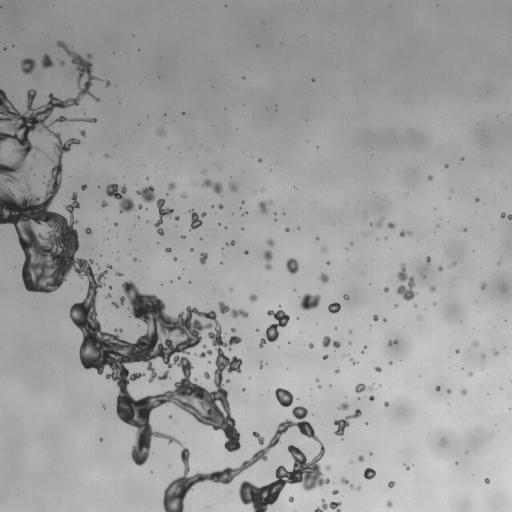droplet: (106, 184, 135, 212), (275, 388, 294, 407), (299, 293, 320, 310), (322, 335, 340, 349), (21, 58, 36, 74), (190, 209, 202, 229), (258, 200, 272, 214), (286, 257, 298, 273), (41, 54, 53, 68), (328, 302, 340, 313), (363, 468, 375, 479), (199, 252, 207, 264), (319, 273, 329, 282), (375, 217, 383, 227), (338, 402, 348, 410), (156, 128, 165, 136), (229, 182, 237, 191), (249, 294, 257, 301), (341, 477, 349, 484), (168, 182, 175, 189), (85, 227, 92, 234), (267, 239, 274, 246), (387, 222, 395, 228), (388, 340, 396, 346), (480, 282, 486, 289), (429, 285, 435, 292), (374, 366, 381, 372), (227, 240, 235, 245), (101, 201, 107, 207), (388, 481, 394, 487), (386, 501, 392, 507), (115, 271, 122, 276), (373, 314, 378, 321), (105, 80, 110, 86), (80, 130, 85, 136), (165, 247, 171, 252), (472, 341, 478, 346), (204, 372, 209, 378), (461, 389, 466, 395), (358, 455, 363, 461), (426, 256, 430, 263), (81, 185, 86, 190), (322, 247, 327, 252), (438, 266, 443, 271), (344, 294, 349, 299), (323, 354, 328, 359), (369, 395, 374, 400), (325, 465, 330, 470), (484, 478, 489, 483), (332, 490, 338, 494), (289, 496, 293, 502), (104, 153, 109, 157), (428, 175, 432, 180), (174, 216, 179, 220), (384, 287, 388, 292), (309, 343, 313, 348), (494, 350, 498, 355), (435, 386, 440, 390), (446, 389, 451, 393), (101, 403, 105, 408), (405, 465, 409, 470), (60, 61, 64, 65), (182, 194, 186, 198), (475, 198, 479, 202), (218, 204, 222, 208), (201, 212, 205, 216), (285, 227, 289, 231), (244, 250, 248, 254), (133, 257, 137, 261), (231, 328, 235, 332), (335, 369, 339, 373), (468, 372, 472, 376), (384, 402, 388, 406), (28, 166, 31, 170), (463, 228, 467, 231), (452, 262, 456, 265), (106, 294, 110, 297), (456, 349, 459, 353), (258, 158, 261, 161), (445, 164, 448, 167), (138, 205, 141, 208), (114, 223, 117, 226), (182, 235, 185, 238), (316, 237, 319, 240), (173, 257, 176, 260), (326, 261, 329, 264), (383, 318, 386, 321), (203, 344, 206, 347), (389, 361, 392, 364), (226, 379, 229, 382), (461, 157, 463, 160), (262, 188, 264, 191), (241, 201, 244, 203), (497, 262, 500, 264), (230, 288, 232, 291), (395, 304, 397, 307), (414, 304, 416, 307), (348, 342, 351, 344), (482, 355, 485, 357), (169, 415, 172, 417), (99, 438, 102, 440), (350, 460, 352, 463), (455, 462, 458, 464), (182, 112, 184, 114), (370, 223, 372, 225), (350, 242, 352, 244), (109, 286, 111, 288), (335, 327, 337, 329), (364, 346, 366, 348), (362, 351, 364, 353), (318, 385, 320, 387), (242, 388, 244, 390), (370, 453, 372, 455), (229, 490, 231, 492)
ligament: (0, 40, 321, 511), (136, 185, 173, 235), (259, 309, 289, 347), (333, 409, 361, 436), (396, 263, 416, 300), (218, 302, 248, 317), (314, 499, 341, 511), (201, 179, 222, 194), (263, 250, 273, 270), (252, 431, 264, 444), (355, 383, 372, 392), (199, 350, 213, 357), (500, 212, 511, 219), (400, 230, 411, 236), (350, 485, 361, 490), (350, 359, 356, 364), (259, 362, 262, 368)
